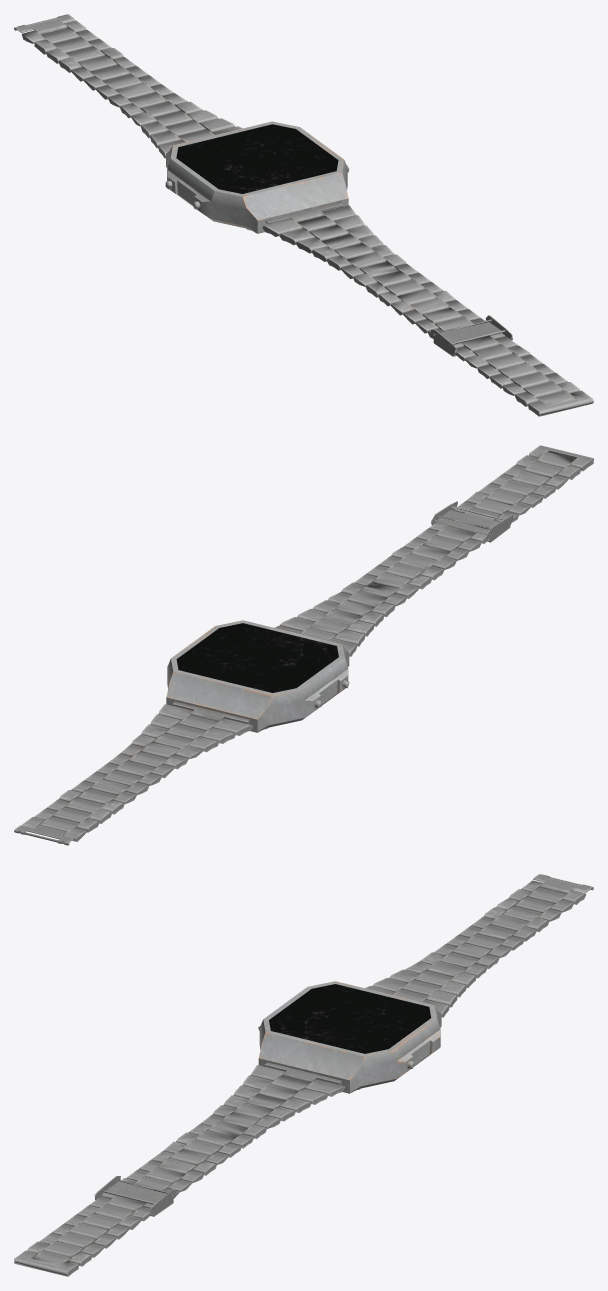
File: wrist_watch.glb
3 renders of one model, top to bottom at view 1: azimuth 30°, elevation 25°; view 2: azimuth 150°, elevation 25°; view 3: azimuth 330°, elevation 25°, orthographic.
Visible parts, largest first — view 1: digital_wrist_watch_strap_b, digital_wrist_watch, digital_wrist_watch_strap_a, digital_wrist_watch_clasp; view 2: digital_wrist_watch_strap_b, digital_wrist_watch, digital_wrist_watch_strap_a, digital_wrist_watch_clasp; view 3: digital_wrist_watch_strap_b, digital_wrist_watch, digital_wrist_watch_strap_a, digital_wrist_watch_clasp.
Part boxes in pixels (bbox=[...]): digital_wrist_watch_strap_b: bbox=[262, 202, 593, 416]; digital_wrist_watch: bbox=[165, 121, 349, 233]; digital_wrist_watch_strap_a: bbox=[21, 20, 242, 158]; digital_wrist_watch_clasp: bbox=[14, 14, 74, 34]; digital_wrist_watch_strap_b: bbox=[274, 445, 593, 656]; digital_wrist_watch: bbox=[166, 620, 349, 732]; digital_wrist_watch_strap_a: bbox=[22, 701, 252, 841]; digital_wrist_watch_clasp: bbox=[14, 824, 74, 845]; digital_wrist_watch_strap_b: bbox=[14, 1062, 344, 1276]; digital_wrist_watch: bbox=[258, 981, 441, 1093]; digital_wrist_watch_strap_a: bbox=[365, 880, 586, 1017]; digital_wrist_watch_clasp: bbox=[533, 874, 593, 894].
Bounding box in the file's own units: 0.0365 × 0.00835 × 0.2172.
Materials: 2 (2 with a texture image).
